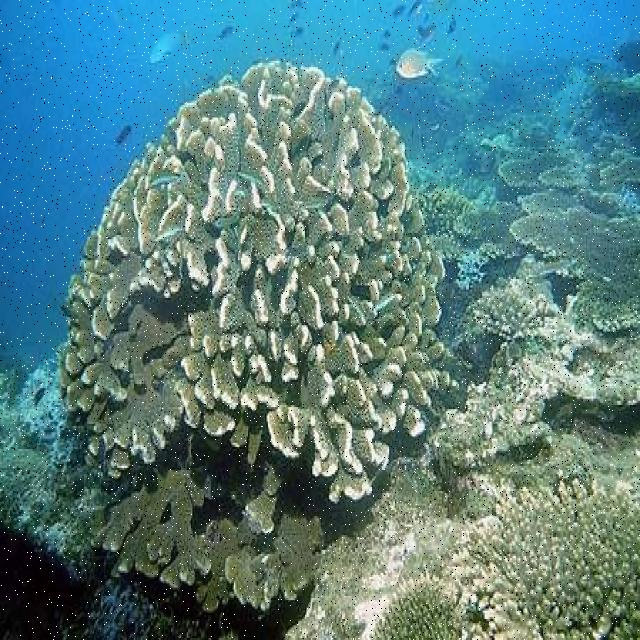fish: (397, 48, 446, 80), (150, 30, 195, 64), (211, 198, 241, 227), (147, 167, 183, 190)
reefs: (57, 62, 450, 614), (449, 476, 639, 638), (500, 148, 639, 330), (368, 578, 461, 638), (470, 285, 550, 346)
